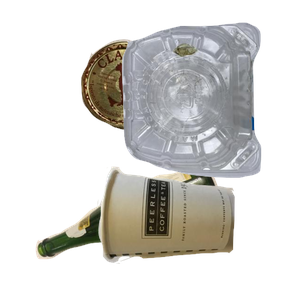glass: (33, 158, 246, 300)
metal: (78, 37, 243, 163)
plastic: (119, 20, 300, 190)
trash: (95, 164, 300, 300)
